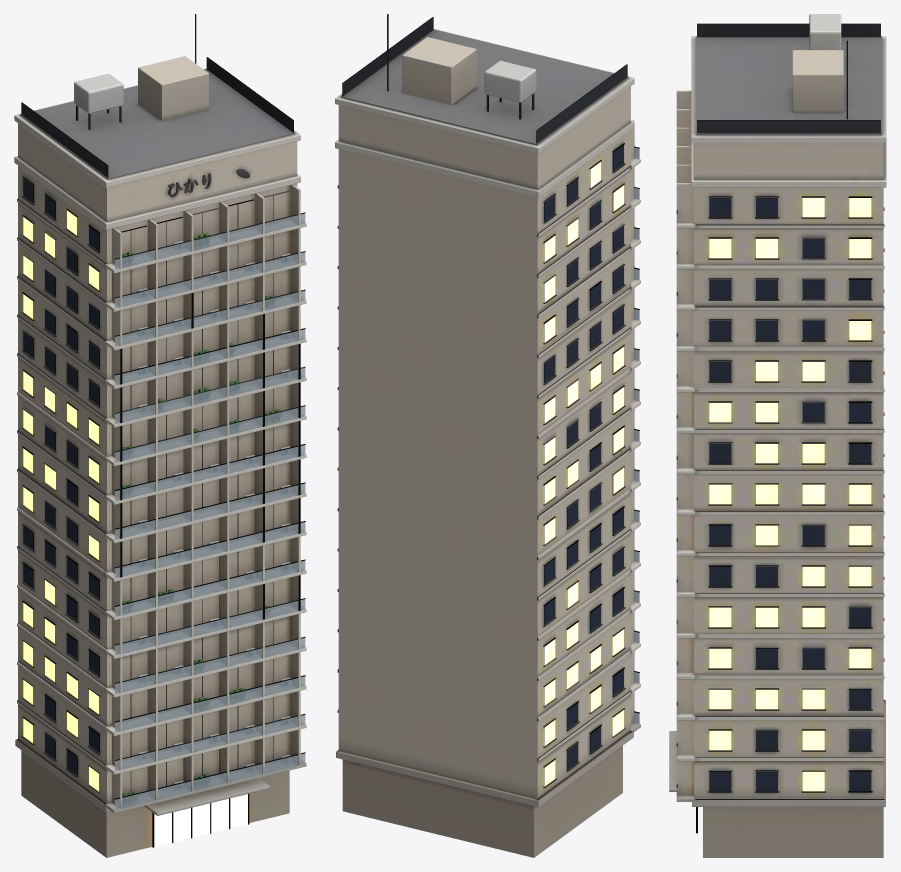
The model's file is tower_hikari.glb.
The picture shows the model from 3 angles, left to right: view 1: azimuth 30°, elevation 25°; view 2: azimuth 150°, elevation 25°; view 3: azimuth 270°, elevation 25°; orthographic projection. The views are drawn at different scales.
Visible parts, largest first — view 1: tower_hikari; view 2: tower_hikari; view 3: tower_hikari.
Boxes of the visible parts, x1=… form: tower_hikari: x1=14, y1=14, x2=306, y2=857; tower_hikari: x1=335, y1=14, x2=640, y2=857; tower_hikari: x1=669, y1=14, x2=886, y2=857.
Size of the model in its own units: 16.4 by 60.75 by 14.9.
Materials: 3 (1 with a texture image).
